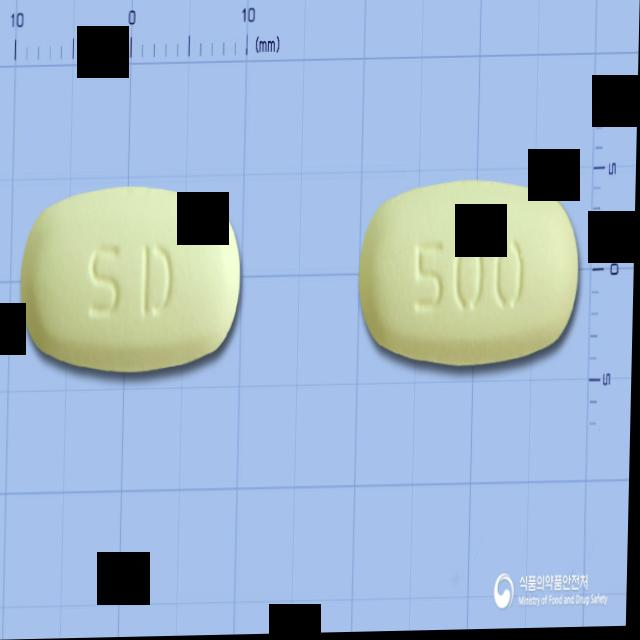Clabio: (17, 179, 249, 388), (355, 174, 586, 378)
